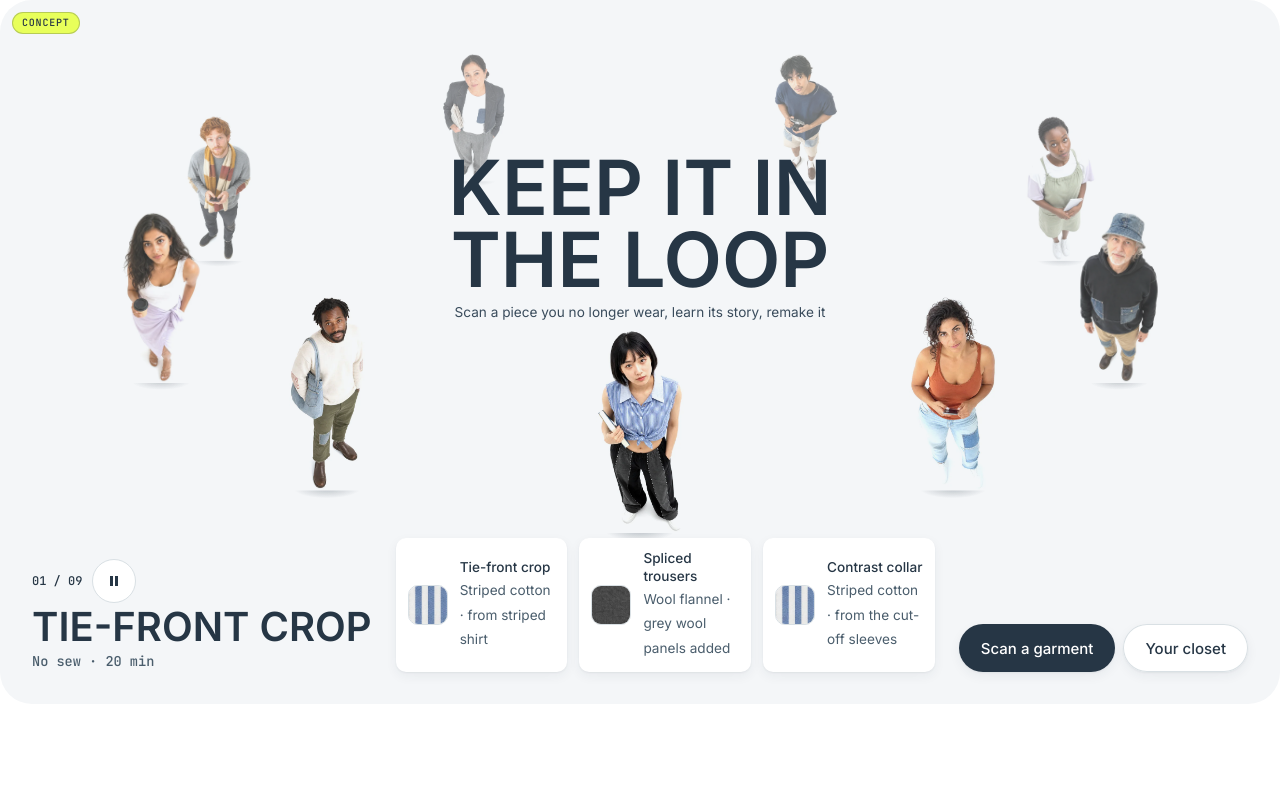
Scenario: HomeRing › starts on the first look and jumps when an item is picked, pausing
Expected: the text "01 / 09" is shown, [32,575,82,587]
Expected: the text "Tie-front crop" below "01" is shown, [32,602,372,651]
Click the button named "Show Wrap skirt" at (161, 297), box [116,211,206,383]
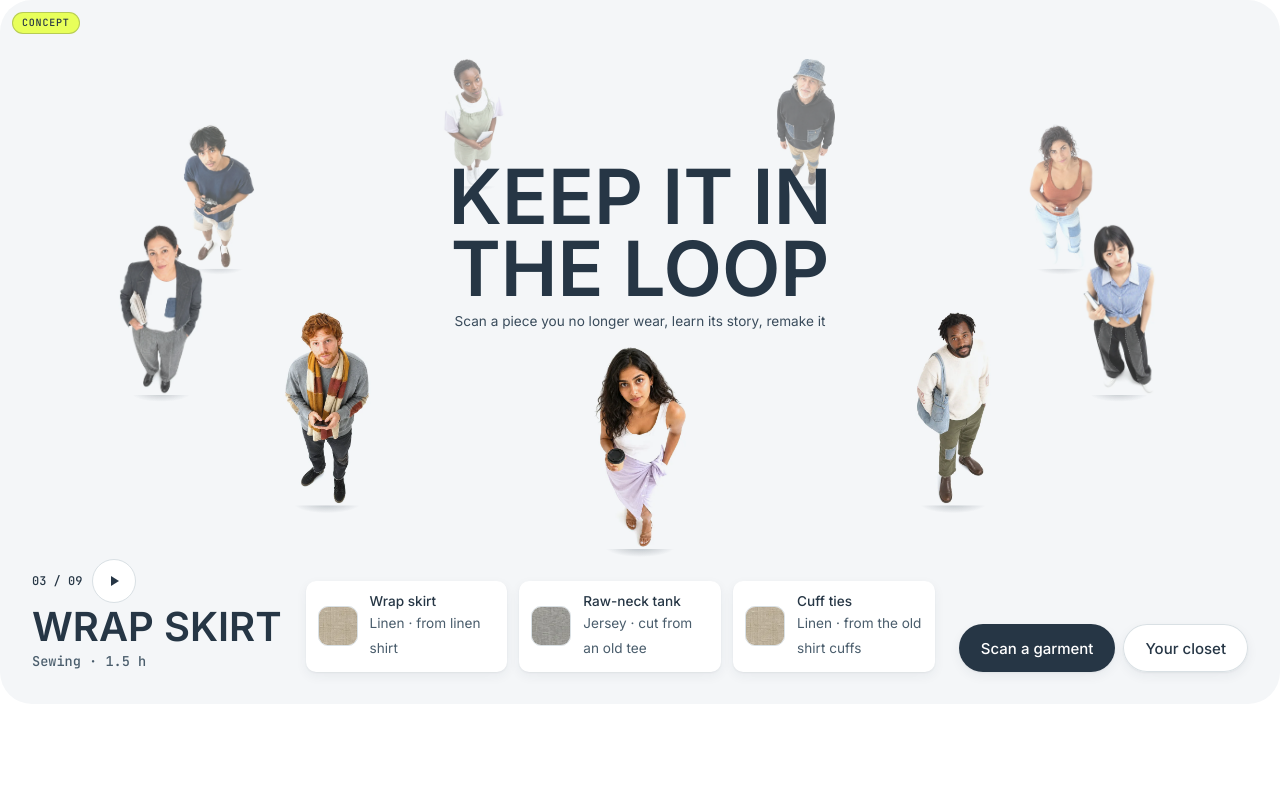
Expected: the text "03 / 09" is shown, [32,575,82,587]
Expected: the text "Wrap skirt" below "03" is shown, [32,602,282,651]
Expected: the button named "Play the ring" is shown, [92,559,136,603]
